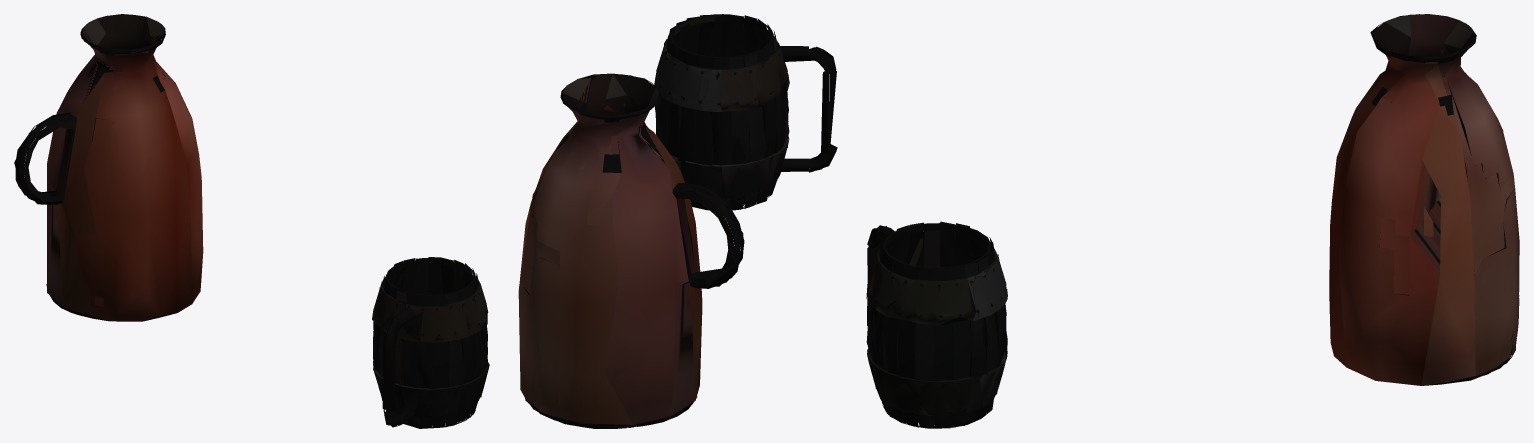
The model's file is bar ivan moro ornamenti 2.glb.
3 renders of one model, left to right at view 1: azimuth 30°, elevation 25°; view 2: azimuth 150°, elevation 25°; view 3: azimuth 270°, elevation 25°, orthographic. The views are drawn at different scales.
Visible parts, largest first — view 1: Object_37.005; view 2: Object_37.005; view 3: Object_37.005.
Boxes of the visible parts, box(x1,y1,x2,y2) form: Object_37.005: box(14, 14, 489, 428); Object_37.005: box(518, 14, 837, 428); Object_37.005: box(866, 14, 1519, 428).
Bounding box in the file's own units: 0.3693 × 0.3428 × 0.6442.
1 material, 1 textured.
